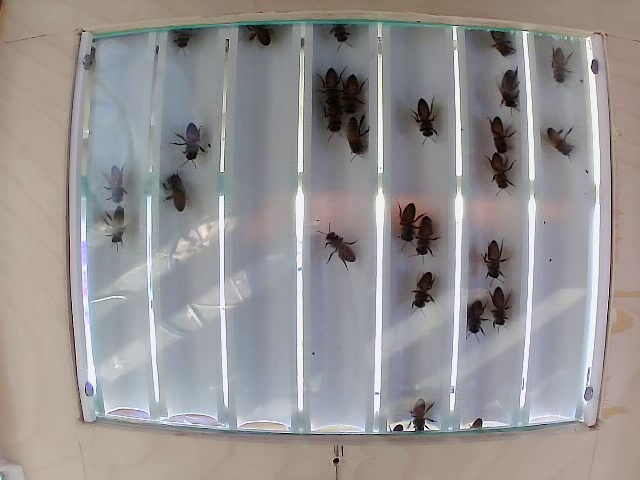bee: (415, 93, 448, 149), (402, 389, 436, 441), (544, 120, 579, 169), (408, 264, 435, 324), (493, 66, 527, 111), (158, 168, 191, 214), (322, 223, 351, 273), (415, 213, 442, 266), (394, 199, 422, 250), (459, 299, 487, 346), (486, 115, 517, 157), (316, 95, 346, 138), (106, 203, 132, 250), (483, 234, 506, 282), (343, 113, 367, 159), (339, 70, 363, 115), (488, 286, 513, 329), (489, 154, 515, 194), (182, 120, 206, 163), (105, 158, 129, 198), (549, 46, 567, 92), (320, 62, 340, 98)
